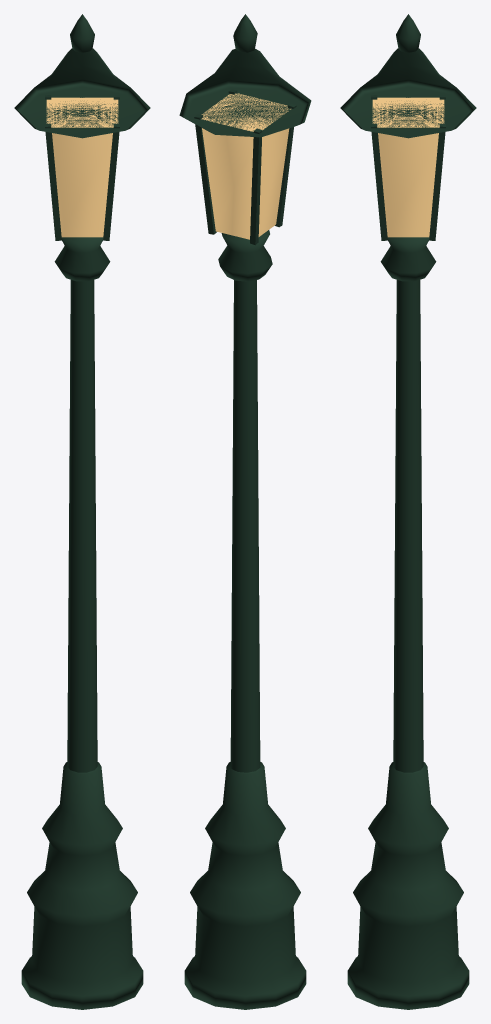
The model's file is prop_lamp.glb.
3 views of the same model, side by side, from view 1: azimuth 90°, elevation 25°; view 2: azimuth 150°, elevation 25°; view 3: azimuth 270°, elevation 25° (orthographic).
Size of the model in its own units: 0.54 by 4.23 by 0.54.
